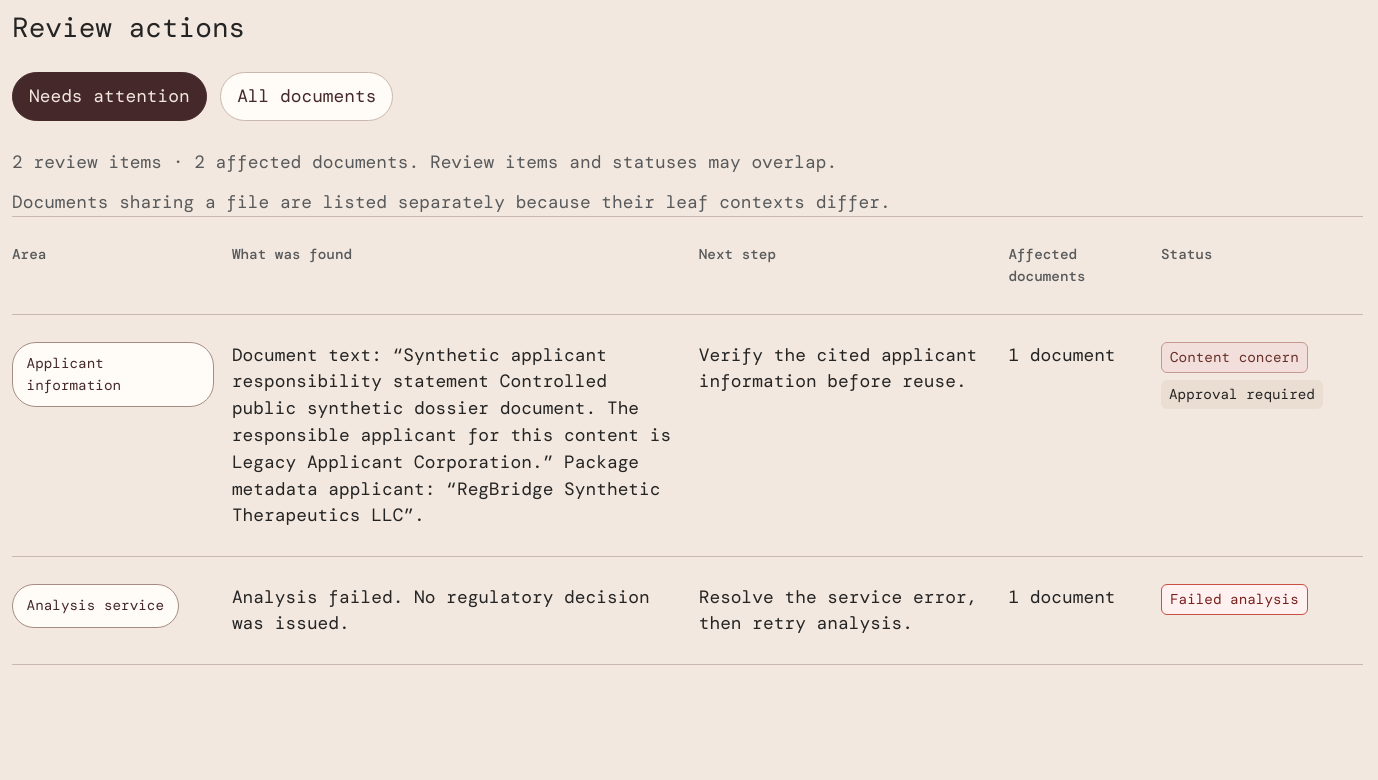
Test case: concrete review observations and leaf inventory › uses one inventory row per leaf including clean, failed and shared-file contexts
Click the button "All documents" at (307, 96), box 220,72 -> 393,121
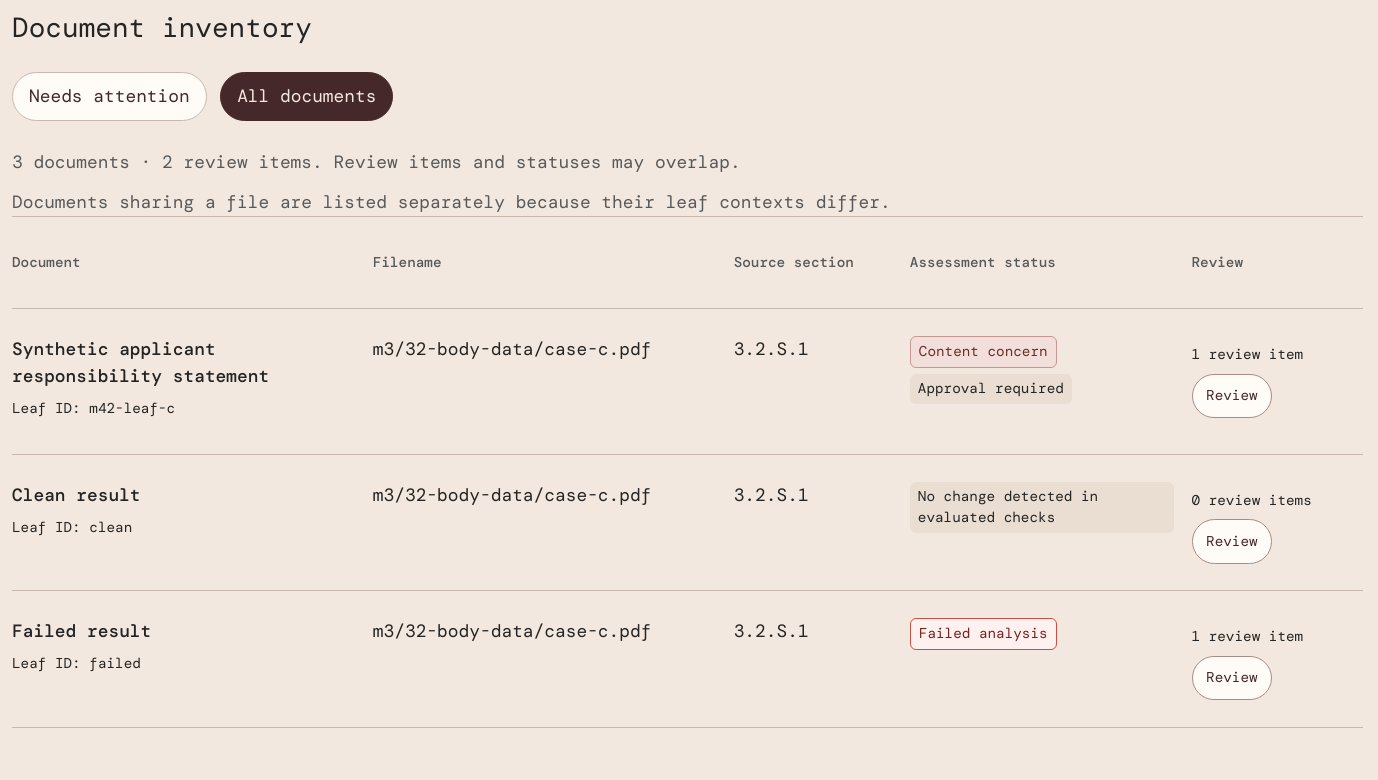
Now the number of rows is 4, box 12,216 -> 1363,309; 12,309 -> 1363,455; 12,455 -> 1363,591; 12,591 -> 1363,728
Now the button with aria-label "Review Clean result (clean)" is shown, box 1192,519 -> 1272,564
Now the text "0 review items" is shown, box 1192,491 -> 1312,509
